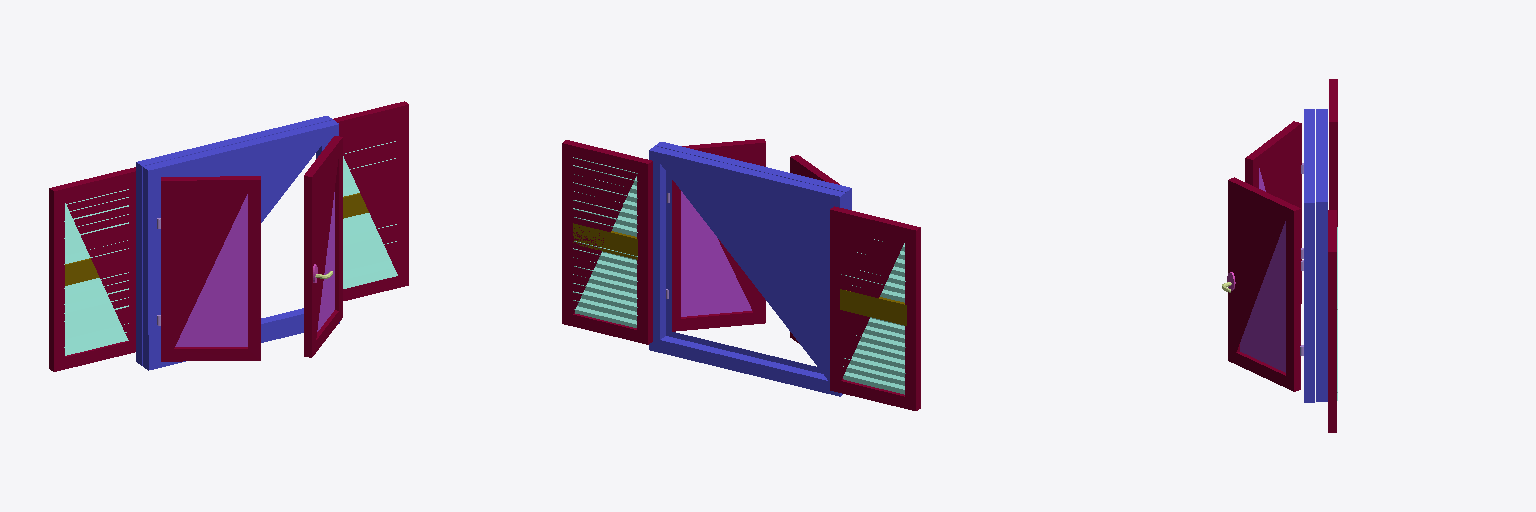
File: window.obj
The picture shows the model from 3 angles: view 1: azimuth 30°, elevation 25°; view 2: azimuth 150°, elevation 25°; view 3: azimuth 270°, elevation 25°; orthographic projection.
Visible parts, largest first — view 1: cornice01, cornice03, base_finestra_interno, cornice02, cornice, vetro01, base_finestra_esterno, vetro, barra_main; view 2: base_finestra_esterno, cornice03, cornice02, vetro, cornice, base_finestra_interno, barra_main, barra_main01, cornice01, stanghetta32; view 3: cornice, vetro, base_finestra_esterno, cornice01, base_finestra_interno, cornice02, cornice03.
Part boxes in pixels (bbox=[...]): cornice01: bbox=[161, 176, 260, 361]; cornice03: bbox=[49, 167, 135, 371]; base_finestra_interno: bbox=[143, 120, 339, 370]; cornice02: bbox=[333, 101, 408, 300]; cornice: bbox=[304, 136, 342, 357]; vetro01: bbox=[175, 194, 247, 346]; base_finestra_esterno: bbox=[136, 116, 332, 365]; vetro: bbox=[317, 192, 334, 331]; barra_main: bbox=[65, 258, 99, 285]; base_finestra_esterno: bbox=[649, 146, 845, 396]; cornice03: bbox=[830, 206, 920, 410]; cornice02: bbox=[562, 140, 652, 344]; vetro: bbox=[681, 191, 751, 316]; cornice: bbox=[672, 139, 765, 331]; base_finestra_interno: bbox=[655, 142, 851, 373]; barra_main: bbox=[840, 289, 906, 325]; barra_main01: bbox=[573, 223, 637, 259]; cornice01: bbox=[790, 155, 839, 343]; stanghetta32: bbox=[843, 372, 904, 394]; cornice: bbox=[1228, 177, 1300, 391]; vetro: bbox=[1240, 221, 1285, 372]; base_finestra_esterno: bbox=[1316, 109, 1327, 401]; cornice01: bbox=[1245, 121, 1301, 303]; base_finestra_interno: bbox=[1304, 109, 1314, 402]; cornice02: bbox=[1328, 210, 1336, 432]; cornice03: bbox=[1329, 79, 1337, 226].
Bounding box in the file's own units: 2.26 × 1.22 × 0.6446.